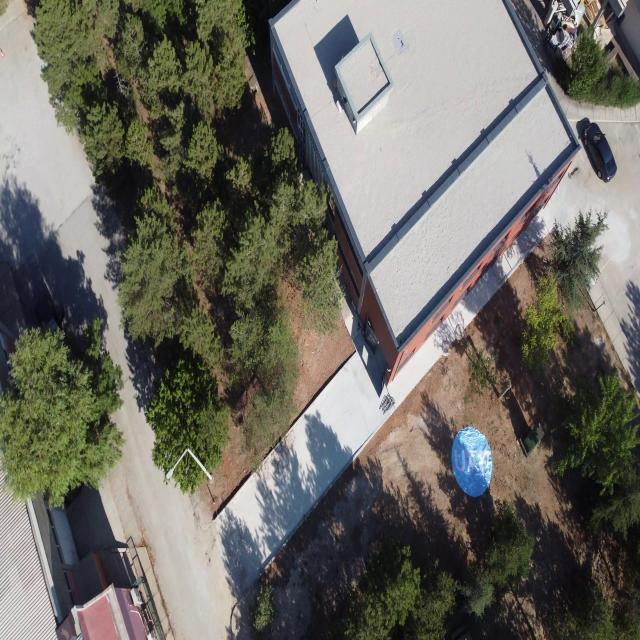vehicle: (452, 426, 492, 496), (583, 120, 618, 182)
